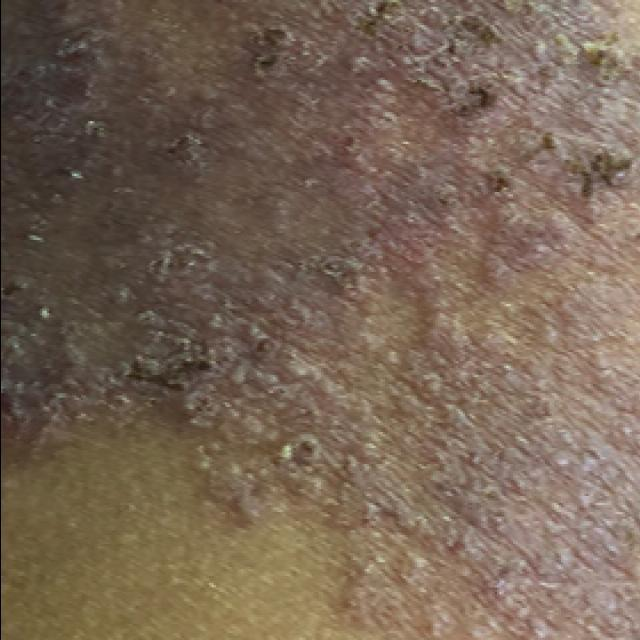Psoriasis: (0, 0, 640, 574)
